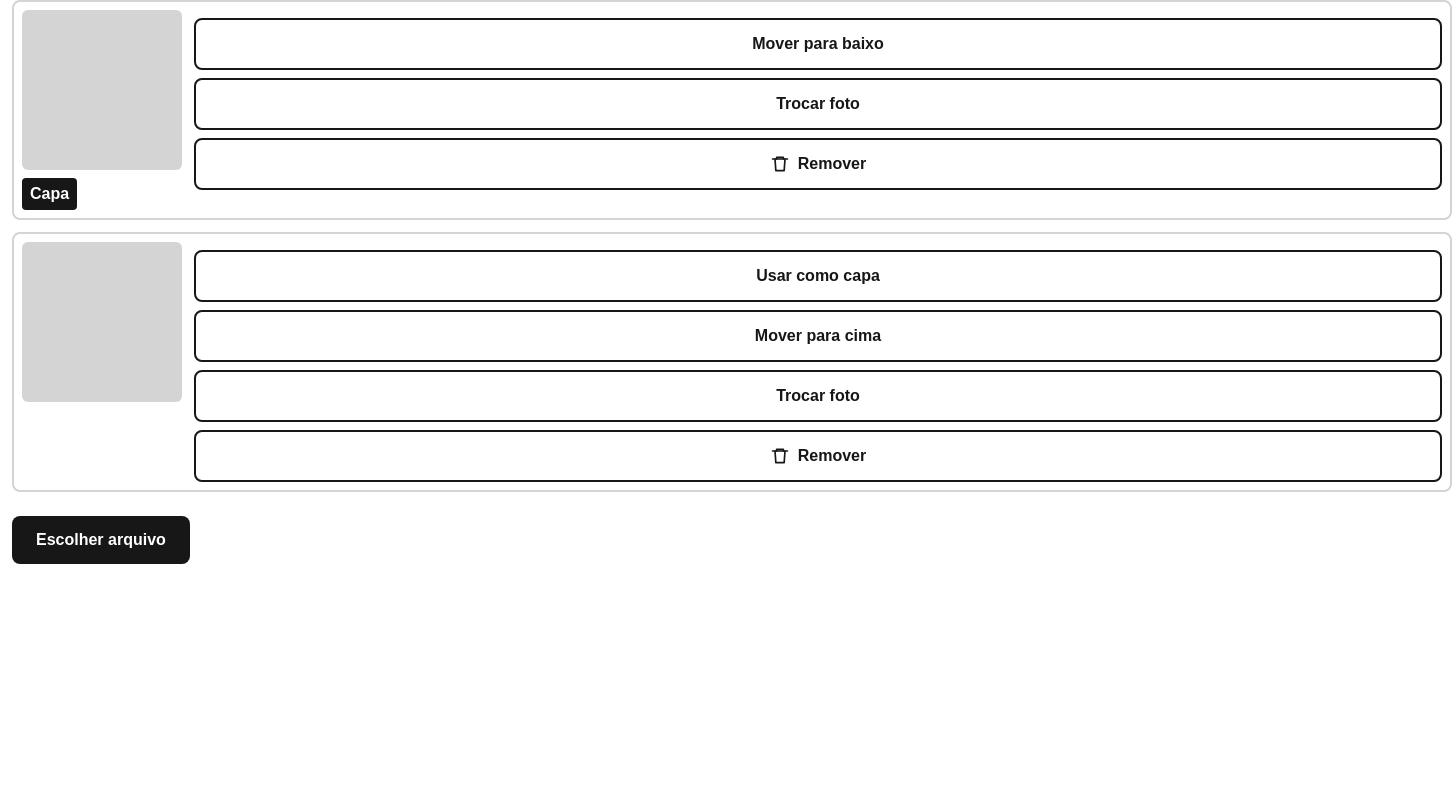
Test: GerenciarFotos — mover e capa (US4-AC2, FR-021) › "Mover para baixo" na foto 1 ⇒ moverFoto de 1 para 2 (posições 1-based)
Click the button "Mover para baixo".
click(818, 44)  # box [194, 18, 1442, 70]
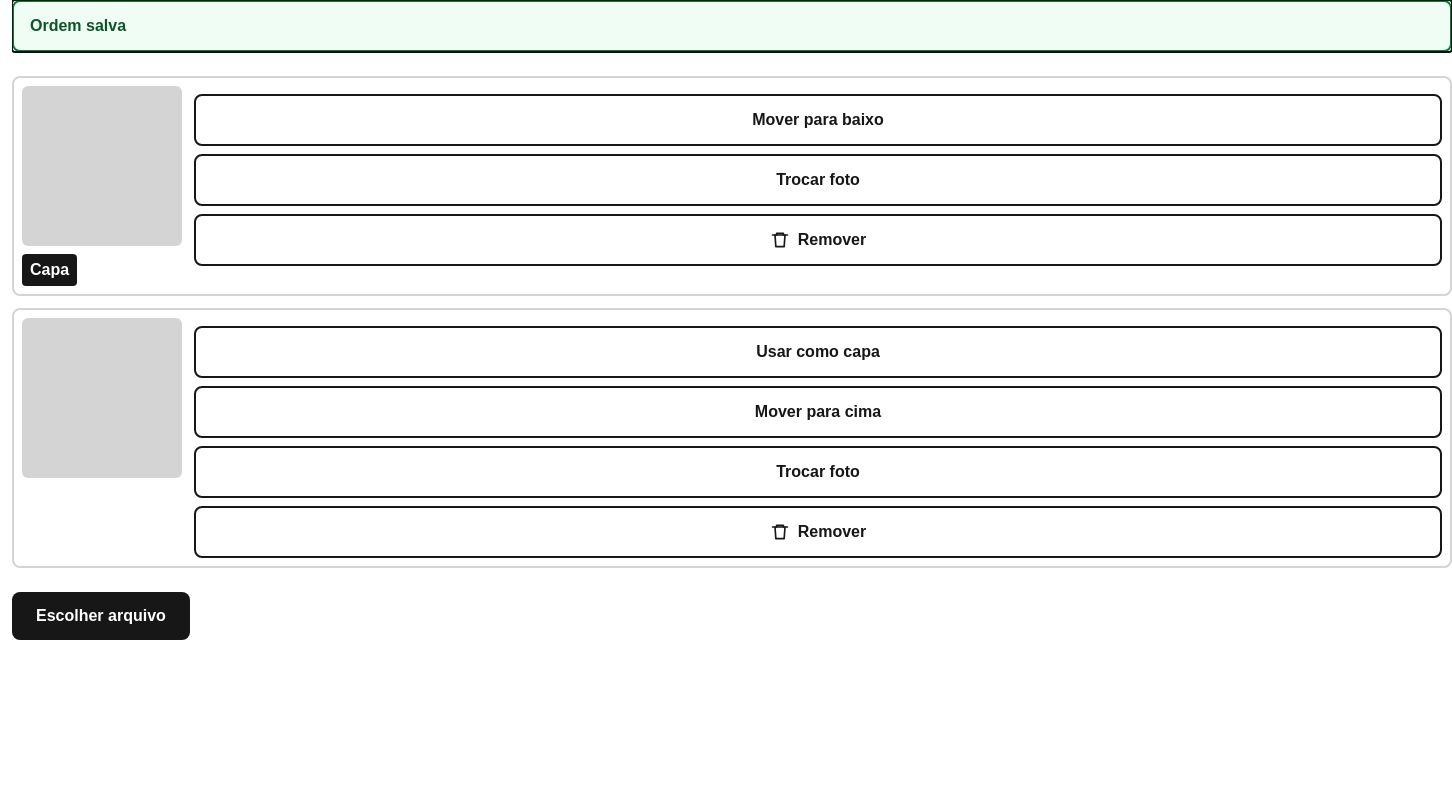
Now the text "Ordem salva" is shown, box [12, 0, 1451, 52]
